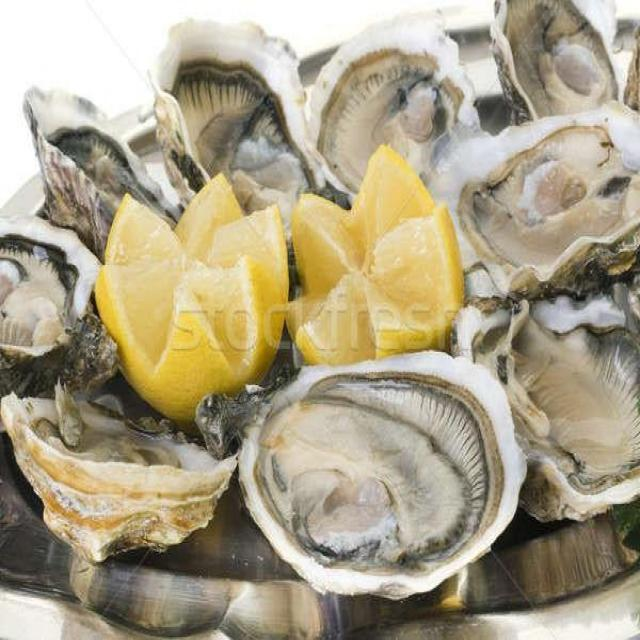Oyster-Open: (202, 346, 529, 601), (423, 99, 640, 309), (0, 379, 241, 568), (454, 289, 640, 527), (147, 15, 333, 239), (310, 4, 495, 215), (22, 79, 183, 255), (0, 210, 111, 383), (480, 0, 623, 129)
